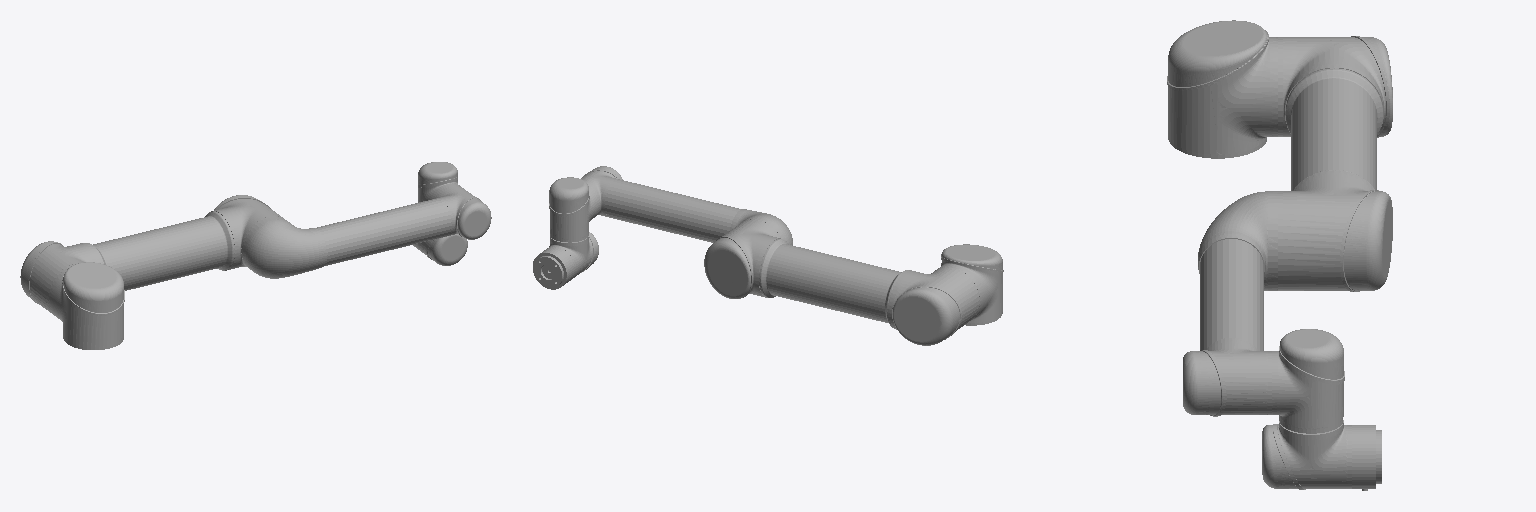
The robot description file, URDF, robot "ur5":
<?xml version="1.0" ?>
<!-- =================================================================================== -->
<!-- |    This document was autogenerated by xacro from [local-path]/Desktop/files/UR5urdf/ur5_robot.urdf.xacro | -->
<!-- |    EDITING THIS FILE BY HAND IS NOT RECOMMENDED                                 | -->
<!-- =================================================================================== -->
<robot name="ur5" xmlns:xacro="http://ros.org/wiki/xacro">
  <!-- common stuff -->
  <!-- ur5 -->
  <!-- Inertia parameters -->
  <!-- This mass might be incorrect -->
  <!-- Kinematic model -->
  <!-- Properties from urcontrol.conf -->
  <!--
    DH for UR5:
    a = [0.00000, -0.42500, -0.39225,  0.00000,  0.00000,  0.0000]
    d = [0.089159,  0.00000,  0.00000,  0.10915,  0.09465,  0.0823]
    alpha = [ 1.570796327, 0, 0, 1.570796327, -1.570796327, 0 ]
    q_home_offset = [0, -1.570796327, 0, -1.570796327, 0, 0]
    joint_direction = [-1, -1, 1, 1, 1, 1]
    mass = [3.7000, 8.3930, 2.2750, 1.2190, 1.2190, 0.1879]
    center_of_mass = [ [0, -0.02561, 0.00193], [0.2125, 0, 0.11336], [0.11993, 0.0, 0.0265], [0, -0.0018, 0.01634], [0, 0.0018,0.01634], [0, 0, -0.001159] ]
  -->
  <!-- Arbitrary offsets for shoulder/elbow joints -->
  <!-- measured from model -->
  <!-- measured from model -->
  <!-- link lengths used in model -->
  <!--property name="shoulder_height" value="0.089159" /-->
  <!--property name="shoulder_offset" value="0.13585" /-->
  <!-- shoulder_offset - elbow_offset + wrist_1_length = 0.10915 -->
  <!--property name="upper_arm_length" value="0.42500" /-->
  <!--property name="elbow_offset" value="0.1197" /-->
  <!-- CAD measured -->
  <!--property name="forearm_length" value="0.39225" /-->
  <!--property name="wrist_1_length" value="0.093" /-->
  <!-- CAD measured -->
  <!--property name="wrist_2_length" value="0.09465" /-->
  <!-- In CAD this distance is 0.930, but in the spec it is 0.09465 -->
  <!--property name="wrist_3_length" value="0.0823" /-->
  <!-- manually measured -->
  <!-- manually measured -->
  <!-- manually measured -->
  <!-- manually measured -->
  <!-- manually measured -->
  <!-- arm -->
  <link name="base_link">
    <visual>
      <geometry>
        <mesh filename="{}/meshes/ur5/visual/base.dae"/>
      </geometry>
      <material name="LightGrey">
        <color rgba="0.7 0.7 0.7 1.0"/>
      </material>
    </visual>
    <collision>
      <geometry>
        <mesh filename="{}/meshes/ur5/collision/base.stl"/>
      </geometry>
    </collision>
    <inertial>
      <mass value="4.0"/>
      <origin rpy="0 0 0" xyz="0.0 0.0 0.0"/>
      <inertia ixx="0.00443333156" ixy="0.0" ixz="0.0" iyy="0.00443333156" iyz="0.0" izz="0.0072"/>
    </inertial>
  </link>
  <joint name="shoulder_pan_joint" type="revolute">
    <parent link="base_link"/>
    <child link="shoulder_link"/>
    <origin rpy="0.0 0.0 0.0" xyz="0.0 0.0 0.089159"/>
    <axis xyz="0 0 1"/>
    <limit effort="150.0" lower="-6.2831853" upper="6.2831853" velocity="3.15"/>
    <dynamics damping="0.0" friction="0.0"/>
  </joint>
  <link name="shoulder_link">
    <visual>
      <geometry>
        <mesh filename="{}/meshes/ur5/visual/shoulder.dae"/>
      </geometry>
      <material name="LightGrey">
        <color rgba="0.7 0.7 0.7 1.0"/>
      </material>
    </visual>
    <collision>
      <geometry>
        <mesh filename="{}/meshes/ur5/collision/shoulder.stl"/>
      </geometry>
    </collision>
    <inertial>
      <mass value="3.7"/>
      <origin rpy="0 0 0" xyz="0.0 0.0 0.0"/>
      <inertia ixx="0.010267495893" ixy="0.0" ixz="0.0" iyy="0.010267495893" iyz="0.0" izz="0.00666"/>
    </inertial>
  </link>
  <joint name="shoulder_lift_joint" type="revolute">
    <parent link="shoulder_link"/>
    <child link="upper_arm_link"/>
    <origin rpy="0.0 1.570796325 0.0" xyz="0.0 0.13585 0.0"/>
    <axis xyz="0 1 0"/>
    <limit effort="150.0" lower="-6.2831853" upper="6.2831853" velocity="3.15"/>
    <dynamics damping="0.0" friction="0.0"/>
  </joint>
  <link name="upper_arm_link">
    <visual>
      <geometry>
        <mesh filename="{}/meshes/ur5/visual/upperarm.dae"/>
      </geometry>
      <material name="LightGrey">
        <color rgba="0.7 0.7 0.7 1.0"/>
      </material>
    </visual>
    <collision>
      <geometry>
        <mesh filename="{}/meshes/ur5/collision/upperarm.stl"/>
      </geometry>
    </collision>
    <inertial>
      <mass value="8.393"/>
      <origin rpy="0 0 0" xyz="0.0 0.0 0.28"/>
      <inertia ixx="0.22689067591" ixy="0.0" ixz="0.0" iyy="0.22689067591" iyz="0.0" izz="0.0151074"/>
    </inertial>
  </link>
  <joint name="elbow_joint" type="revolute">
    <parent link="upper_arm_link"/>
    <child link="forearm_link"/>
    <origin rpy="0.0 0.0 0.0" xyz="0.0 -0.1197 0.425"/>
    <axis xyz="0 1 0"/>
    <limit effort="150.0" lower="-6.2831853" upper="6.2831853" velocity="3.15"/>
    <dynamics damping="0.0" friction="0.0"/>
  </joint>
  <link name="forearm_link">
    <visual>
      <geometry>
        <mesh filename="{}/meshes/ur5/visual/forearm.dae"/>
      </geometry>
      <material name="LightGrey">
        <color rgba="0.7 0.7 0.7 1.0"/>
      </material>
    </visual>
    <collision>
      <geometry>
        <mesh filename="{}/meshes/ur5/collision/forearm.stl"/>
      </geometry>
    </collision>
    <inertial>
      <mass value="2.275"/>
      <origin rpy="0 0 0" xyz="0.0 0.0 0.25"/>
      <inertia ixx="0.049443313556" ixy="0.0" ixz="0.0" iyy="0.049443313556" iyz="0.0" izz="0.004095"/>
    </inertial>
  </link>
  <joint name="wrist_1_joint" type="revolute">
    <parent link="forearm_link"/>
    <child link="wrist_1_link"/>
    <origin rpy="0.0 1.570796325 0.0" xyz="0.0 0.0 0.39225"/>
    <axis xyz="0 1 0"/>
    <limit effort="28.0" lower="-6.2831853" upper="6.2831853" velocity="3.2"/>
    <dynamics damping="0.0" friction="0.0"/>
  </joint>
  <link name="wrist_1_link">
    <visual>
      <geometry>
        <mesh filename="{}/meshes/ur5/visual/wrist1.dae"/>
      </geometry>
      <material name="LightGrey">
        <color rgba="0.7 0.7 0.7 1.0"/>
      </material>
    </visual>
    <collision>
      <geometry>
        <mesh filename="{}/meshes/ur5/collision/wrist1.stl"/>
      </geometry>
    </collision>
    <inertial>
      <mass value="1.219"/>
      <origin rpy="0 0 0" xyz="0.0 0.0 0.0"/>
      <inertia ixx="0.111172755531" ixy="0.0" ixz="0.0" iyy="0.111172755531" iyz="0.0" izz="0.21942"/>
    </inertial>
  </link>
  <joint name="wrist_2_joint" type="revolute">
    <parent link="wrist_1_link"/>
    <child link="wrist_2_link"/>
    <origin rpy="0.0 0.0 0.0" xyz="0.0 0.093 0.0"/>
    <axis xyz="0 0 1"/>
    <limit effort="28.0" lower="-6.2831853" upper="6.2831853" velocity="3.2"/>
    <dynamics damping="0.0" friction="0.0"/>
  </joint>
  <link name="wrist_2_link">
    <visual>
      <geometry>
        <mesh filename="{}/meshes/ur5/visual/wrist2.dae"/>
      </geometry>
      <material name="LightGrey">
        <color rgba="0.7 0.7 0.7 1.0"/>
      </material>
    </visual>
    <collision>
      <geometry>
        <mesh filename="{}/meshes/ur5/collision/wrist2.stl"/>
      </geometry>
    </collision>
    <inertial>
      <mass value="1.219"/>
      <origin rpy="0 0 0" xyz="0.0 0.0 0.0"/>
      <inertia ixx="0.111172755531" ixy="0.0" ixz="0.0" iyy="0.111172755531" iyz="0.0" izz="0.21942"/>
    </inertial>
  </link>
  <joint name="wrist_3_joint" type="revolute">
    <parent link="wrist_2_link"/>
    <child link="wrist_3_link"/>
    <origin rpy="0.0 0.0 0.0" xyz="0.0 0.0 0.09465"/>
    <axis xyz="0 1 0"/>
    <limit effort="28.0" lower="-6.2831853" upper="6.2831853" velocity="3.2"/>
    <dynamics damping="0.0" friction="0.0"/>
  </joint>
  <link name="wrist_3_link">
    <visual>
      <geometry>
        <mesh filename="{}/meshes/ur5/visual/wrist3.dae"/>
      </geometry>
      <material name="LightGrey">
        <color rgba="0.7 0.7 0.7 1.0"/>
      </material>
    </visual>
    <collision>
      <geometry>
        <mesh filename="{}/meshes/ur5/collision/wrist3.stl"/>
      </geometry>
    </collision>
    <inertial>
      <mass value="0.1879"/>
      <origin rpy="0 0 0" xyz="0.0 0.0 0.0"/>
      <inertia ixx="0.0171364731454" ixy="0.0" ixz="0.0" iyy="0.0171364731454" iyz="0.0" izz="0.033822"/>
    </inertial>
  </link>
  <joint name="ee_fixed_joint" type="fixed">
    <parent link="wrist_3_link"/>
    <child link="ee_link"/>
    <origin rpy="0.0 0.0 1.570796325" xyz="0.0 0.0823 0.0"/>
  </joint>
  <link name="ee_link">
    <collision>
      <geometry>
        <box size="0.01 0.01 0.01"/>
      </geometry>
      <origin rpy="0 0 0" xyz="-0.01 0 0"/>
    </collision>
  </link>
  <transmission name="shoulder_pan_trans">
    <type>transmission_interface/SimpleTransmission</type>
    <joint name="shoulder_pan_joint">
      <hardwareInterface>PositionJointInterface</hardwareInterface>
    </joint>
    <actuator name="shoulder_pan_motor">
      <mechanicalReduction>1</mechanicalReduction>
    </actuator>
  </transmission>
  <transmission name="shoulder_lift_trans">
    <type>transmission_interface/SimpleTransmission</type>
    <joint name="shoulder_lift_joint">
      <hardwareInterface>PositionJointInterface</hardwareInterface>
    </joint>
    <actuator name="shoulder_lift_motor">
      <mechanicalReduction>1</mechanicalReduction>
    </actuator>
  </transmission>
  <transmission name="elbow_trans">
    <type>transmission_interface/SimpleTransmission</type>
    <joint name="elbow_joint">
      <hardwareInterface>PositionJointInterface</hardwareInterface>
    </joint>
    <actuator name="elbow_motor">
      <mechanicalReduction>1</mechanicalReduction>
    </actuator>
  </transmission>
  <transmission name="wrist_1_trans">
    <type>transmission_interface/SimpleTransmission</type>
    <joint name="wrist_1_joint">
      <hardwareInterface>PositionJointInterface</hardwareInterface>
    </joint>
    <actuator name="wrist_1_motor">
      <mechanicalReduction>1</mechanicalReduction>
    </actuator>
  </transmission>
  <transmission name="wrist_2_trans">
    <type>transmission_interface/SimpleTransmission</type>
    <joint name="wrist_2_joint">
      <hardwareInterface>PositionJointInterface</hardwareInterface>
    </joint>
    <actuator name="wrist_2_motor">
      <mechanicalReduction>1</mechanicalReduction>
    </actuator>
  </transmission>
  <transmission name="wrist_3_trans">
    <type>transmission_interface/SimpleTransmission</type>
    <joint name="wrist_3_joint">
      <hardwareInterface>PositionJointInterface</hardwareInterface>
    </joint>
    <actuator name="wrist_3_motor">
      <mechanicalReduction>1</mechanicalReduction>
    </actuator>
  </transmission>
  <!-- nothing to do here at the moment -->
  <!-- ROS base_link to UR 'Base' Coordinates transform -->
  <link name="base"/>
  <joint name="base_link-base_fixed_joint" type="fixed">
    <!-- NOTE: this rotation is only needed as long as base_link itself is
                 not corrected wrt the real robot (ie: rotated over 180
                 degrees)
      -->
    <origin rpy="0 0 -3.14159265" xyz="0 0 0"/>
    <parent link="base_link"/>
    <child link="base"/>
  </joint>
  <!-- Frame coincident with all-zeros TCP on UR controller -->
  <link name="tool0"/>
  <joint name="wrist_3_link-tool0_fixed_joint" type="fixed">
    <origin rpy="-1.570796325 0 0" xyz="0 0.0823 0"/>
    <parent link="wrist_3_link"/>
    <child link="tool0"/>
  </joint>
  <!--link name="world"/>
  <joint name="world_joint" type="fixed">
    <parent link="world"/>
    <child link="base_link"/>
    <origin rpy="0.0 0.0 0.0" xyz="0.0 0.0 0.0"/>
  </joint-->
</robot>

--- Facts derived from the render (not from the file) ---
3 views of the same robot in one strip: view 1: azimuth 30°, elevation 25°; view 2: azimuth 150°, elevation 25°; view 3: azimuth 270°, elevation 25° (orthographic).
Robot: ur5 — 10 links, 9 joints (6 revolute, 3 fixed); root link base_link; default pose: all joints at 0.
Visible links, largest first — view 1: upper_arm_link, forearm_link, shoulder_link, wrist_1_link, wrist_2_link; view 2: upper_arm_link, forearm_link, shoulder_link, wrist_1_link, wrist_3_link, wrist_2_link; view 3: upper_arm_link, forearm_link, shoulder_link, wrist_1_link, wrist_2_link, wrist_3_link.
Boxes of the visible links, left/top/right/bottom form: upper_arm_link: left=20, top=195, right=283, bottom=315; forearm_link: left=243, top=185, right=491, bottom=278; shoulder_link: left=49, top=262, right=124, bottom=349; wrist_1_link: left=418, top=162, right=459, bottom=202; wrist_2_link: left=413, top=234, right=467, bottom=265; upper_arm_link: left=704, top=219, right=979, bottom=345; forearm_link: left=581, top=166, right=792, bottom=245; shoulder_link: left=935, top=244, right=1003, bottom=325; wrist_1_link: left=549, top=177, right=598, bottom=242; wrist_3_link: left=533, top=248, right=573, bottom=289; wrist_2_link: left=547, top=232, right=598, bottom=280; upper_arm_link: left=1278, top=36, right=1392, bottom=291; forearm_link: left=1183, top=191, right=1277, bottom=416; shoulder_link: left=1167, top=20, right=1277, bottom=158; wrist_1_link: left=1272, top=329, right=1344, bottom=433; wrist_2_link: left=1262, top=420, right=1351, bottom=489; wrist_3_link: left=1352, top=425, right=1381, bottom=490.
Bounding box of the posed robot: 0.9157 × 0.2639 × 0.2062 m (x, y, z).
Meshes: 7 distinct files referenced, 6 mesh visuals loaded (6 Collada DAE); not drawn: 1 (reference not matched to a file when rendering).
